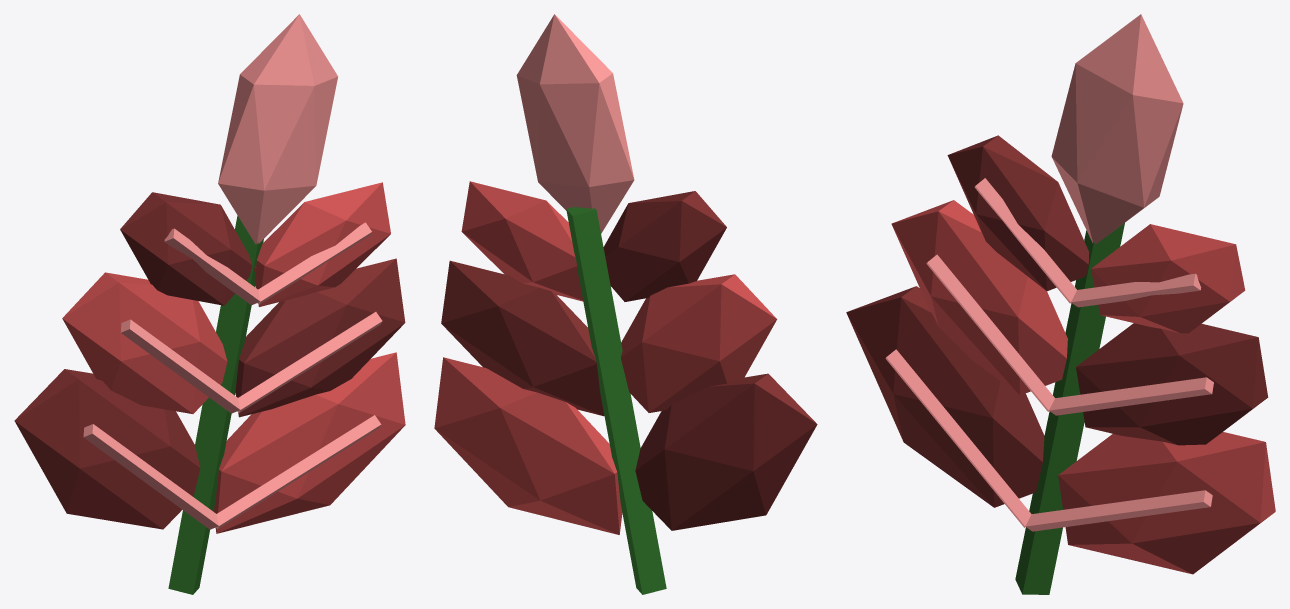
The model's file is mint.glb.
3 renders of one model, left to right at view 1: azimuth 30°, elevation 25°; view 2: azimuth 150°, elevation 25°; view 3: azimuth 330°, elevation 25°, orthographic. The views are drawn at different scales.
Visible parts, largest first — view 1: mint; view 2: mint; view 3: mint.
Part boxes in pixels (bbox=[...]): mint: bbox=[14, 14, 405, 594]; mint: bbox=[434, 14, 817, 594]; mint: bbox=[846, 14, 1275, 594].
Bounding box in the file's own units: 0.2667 × 0.3697 × 0.0386.
